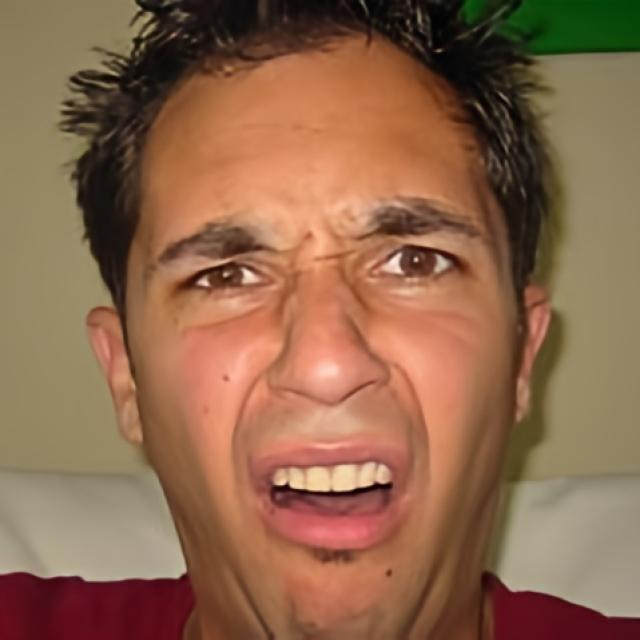disgust: (130, 17, 518, 640)
